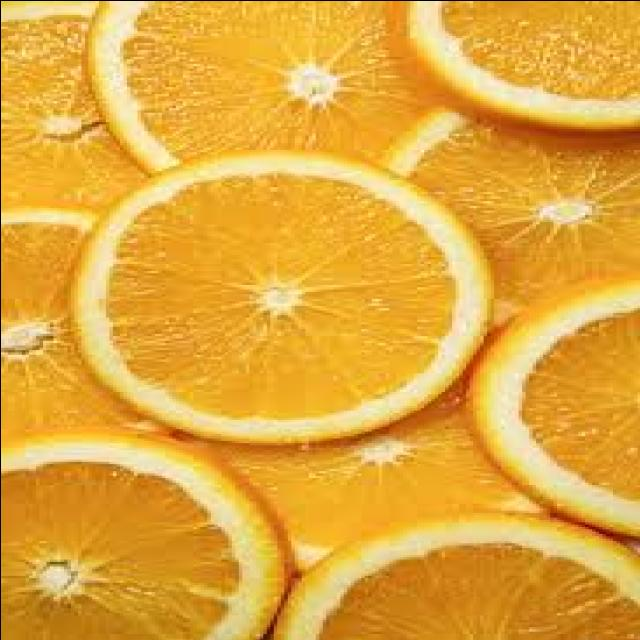orange: (55, 142, 475, 438)
